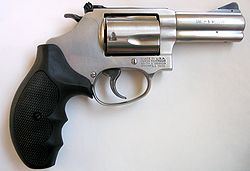Revolver: (4, 0, 245, 169)
